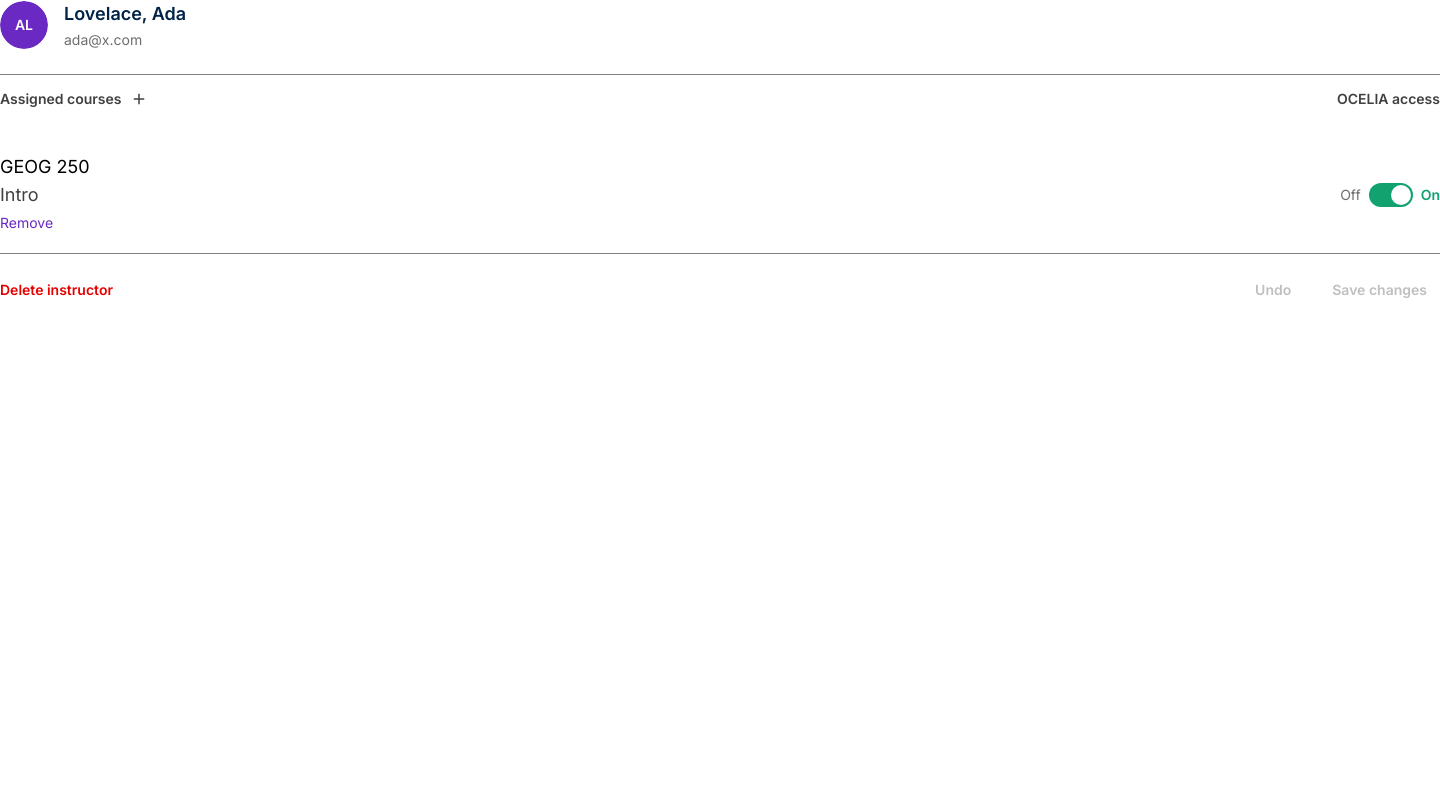
Test case: InstructorDetail (staged editing) › keeps Assign disabled until a selection is applied, and Cancel closes without staging
Click the button named "Assign course".
click(140, 99)  # box [126, 85, 154, 113]
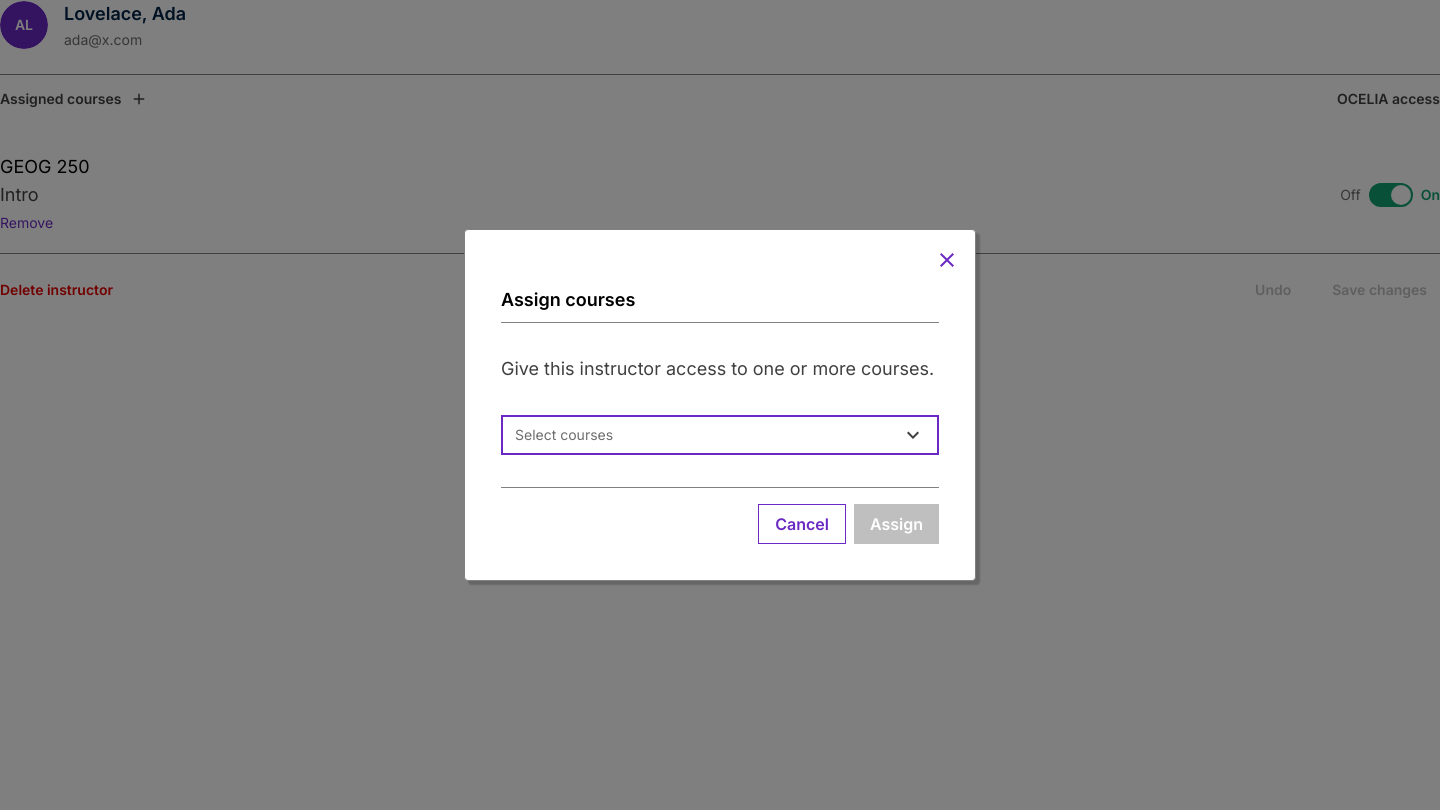
expect the button "Assign" is disabled: met, box [854, 504, 939, 544]
Click the button "Cancel".
click(802, 524)  # box [758, 504, 846, 544]
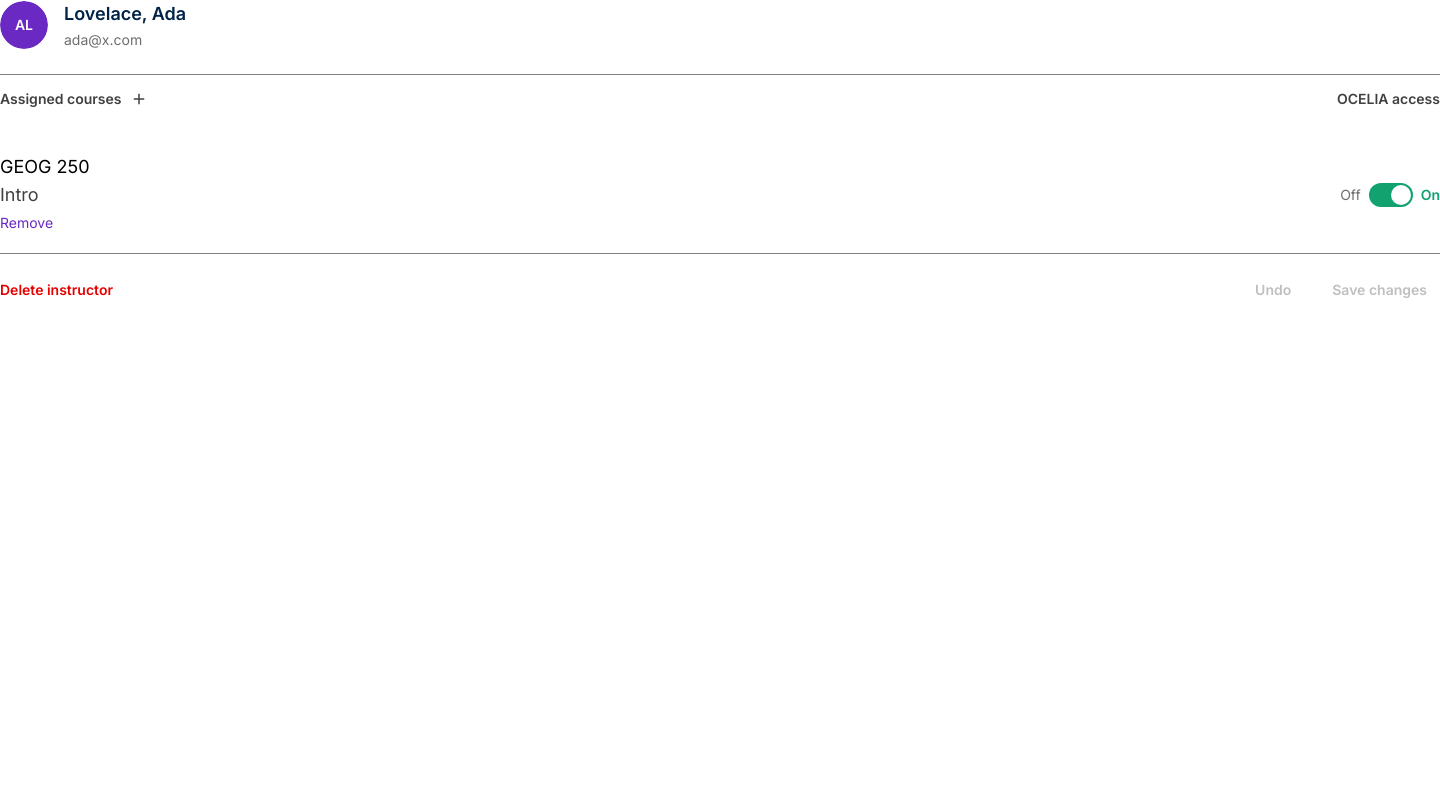
expect the text "PHYS 100" is not shown: met
expect the dialog is gone: met
# Re-open, pick + apply → Assign activates.
Click the button named "Assign course".
click(140, 99)  # box [126, 85, 154, 113]
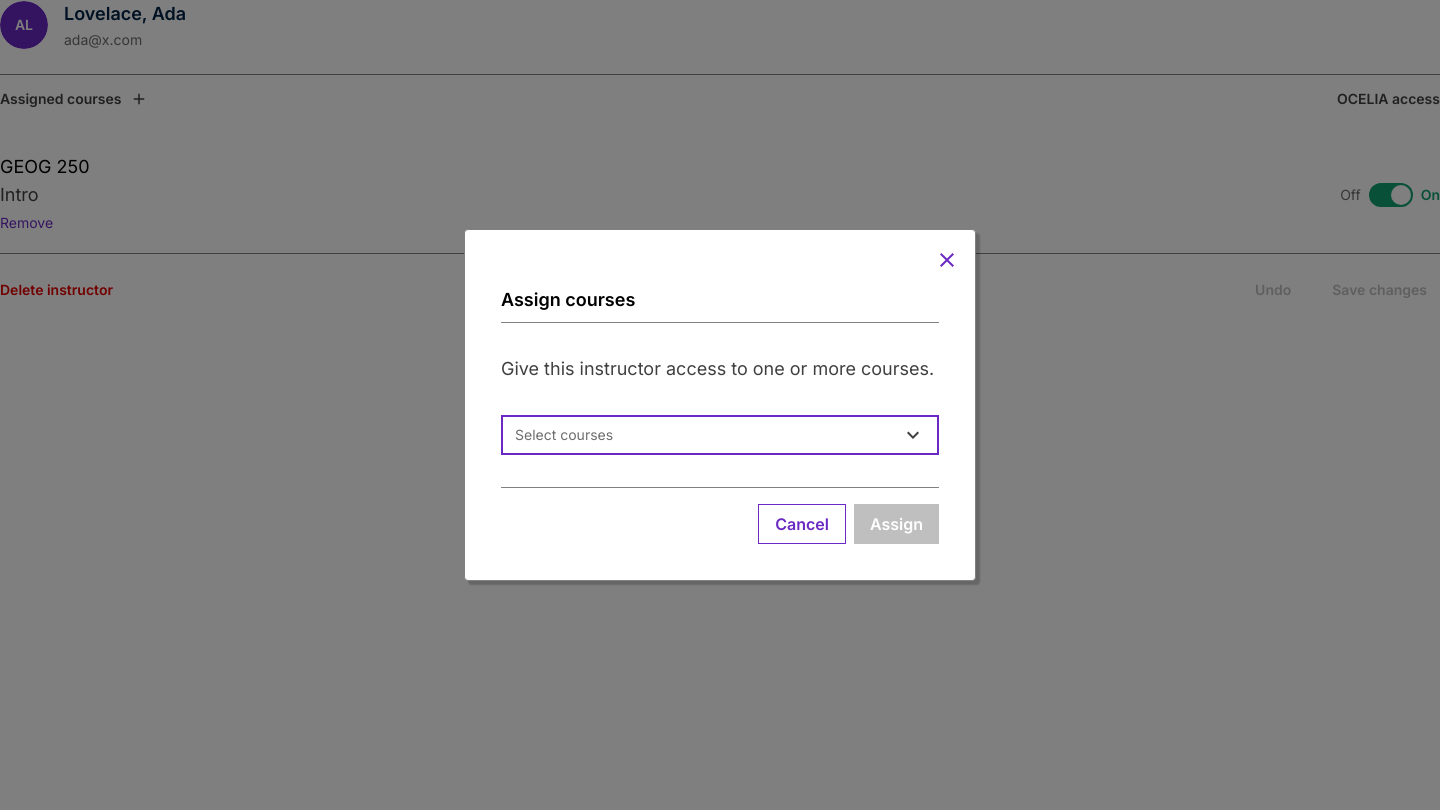
Click the button with aria-label "Courses to assign".
click(564, 434)  # box [501, 415, 939, 455]
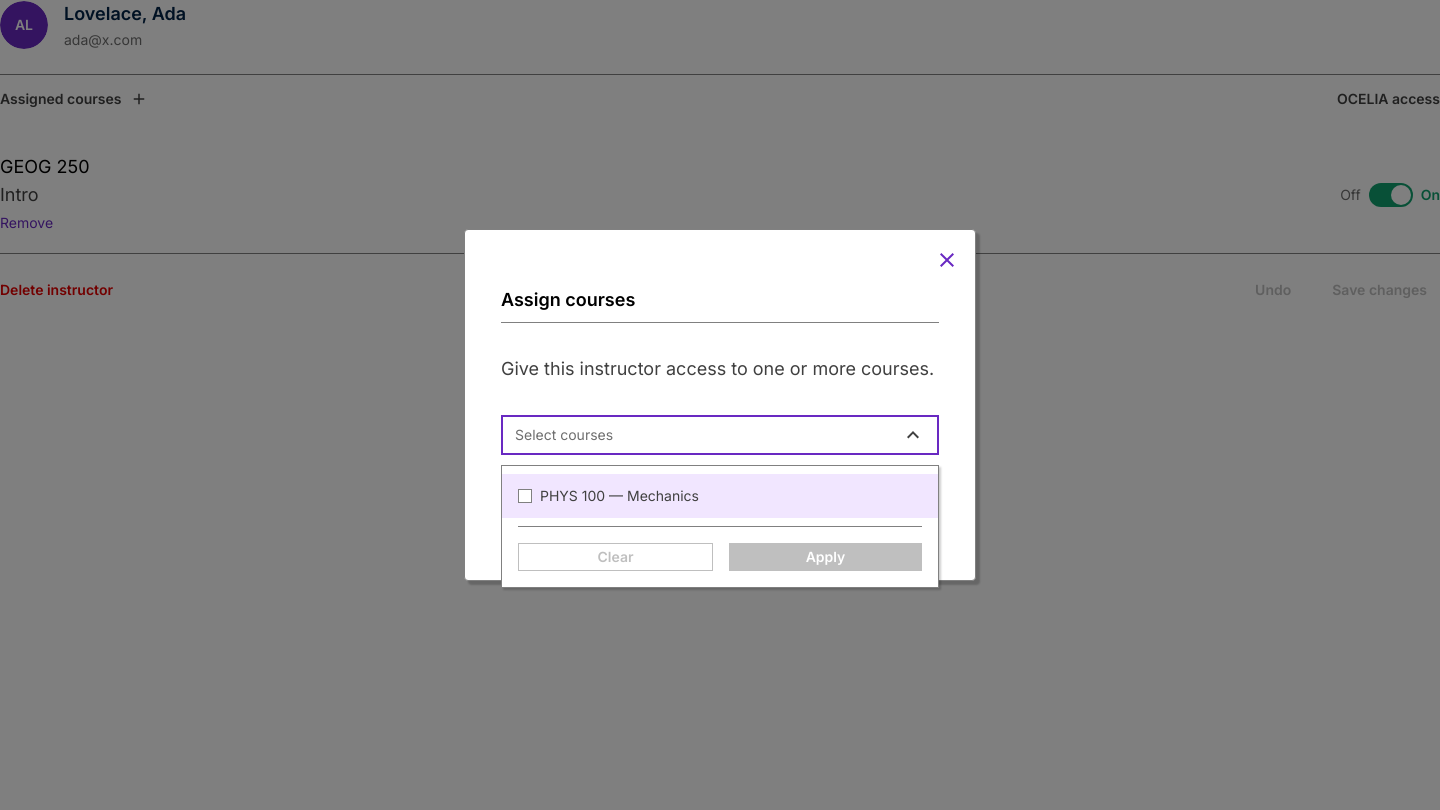
Click the checkbox labelled "PHYS 100 — Mechanics".
click(620, 496)  # box [502, 474, 938, 518]
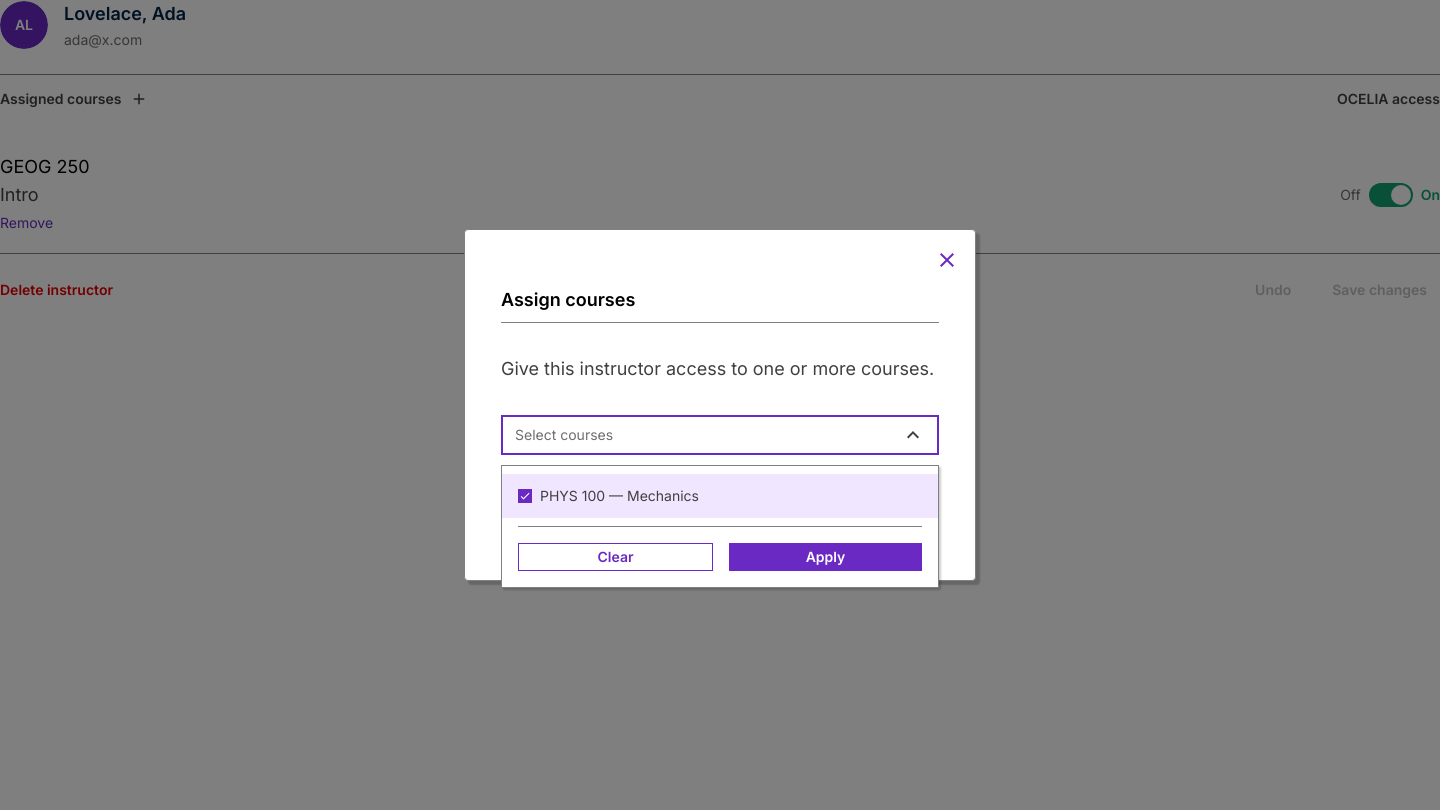
Click the button "Apply".
click(826, 557)  # box [729, 543, 922, 571]
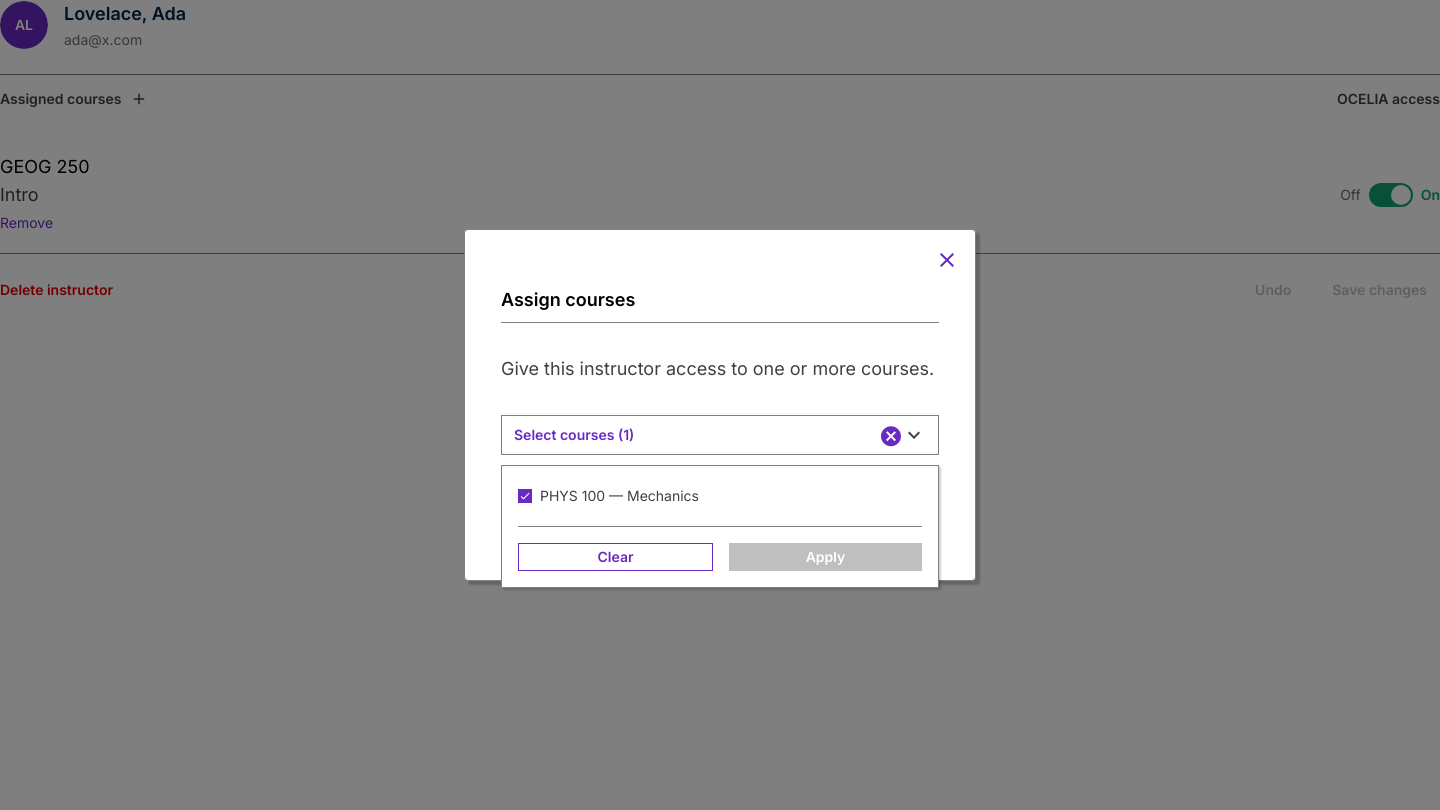
expect the button "Assign" is enabled: met, box [854, 504, 939, 544]
